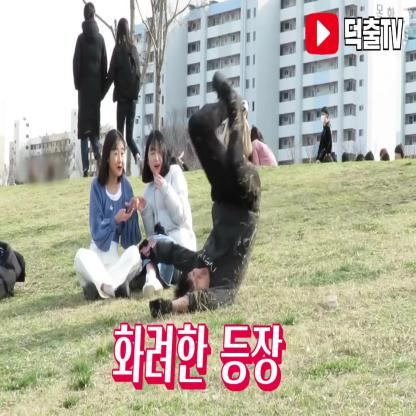Fall_Down: (139, 68, 263, 321)
